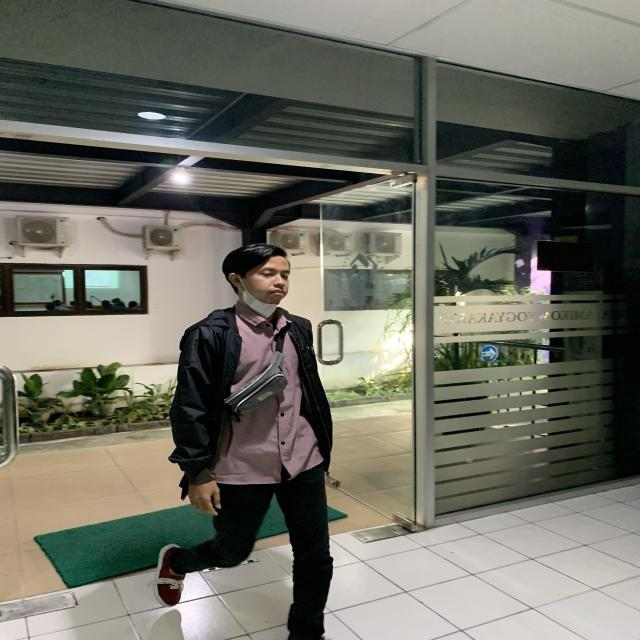hairnet: (225, 240, 298, 314)
